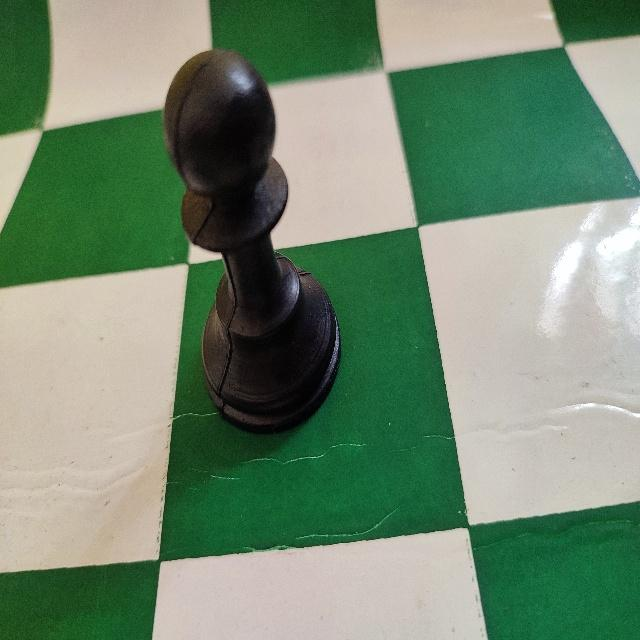Pawn: (159, 47, 344, 440)
